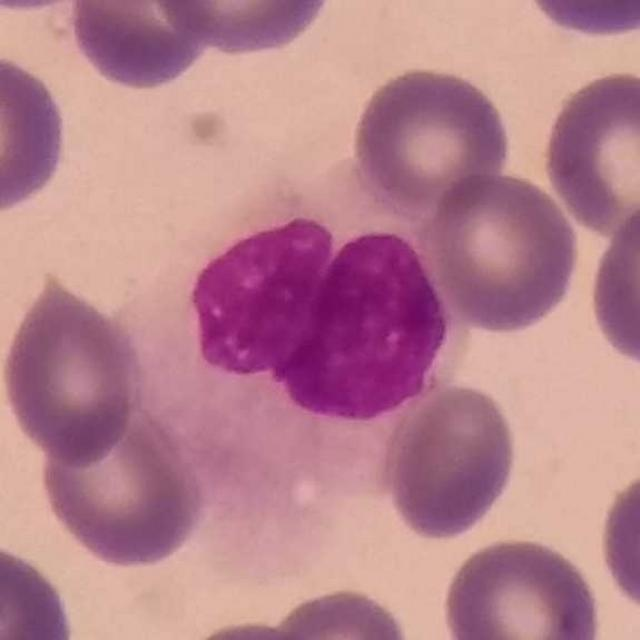Monocyte: (119, 159, 459, 578)
RBC: (0, 265, 148, 468), (34, 411, 208, 571), (419, 167, 582, 336), (348, 60, 516, 214), (376, 380, 522, 543), (537, 64, 640, 241), (438, 532, 606, 640), (62, 0, 216, 93), (0, 47, 72, 219), (150, 0, 338, 57), (584, 192, 640, 376), (262, 582, 416, 640), (0, 537, 80, 640), (594, 462, 640, 622), (515, 0, 639, 42), (163, 614, 340, 640)
